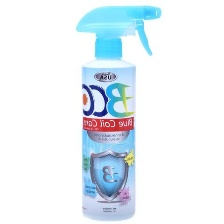cleaning_solution: (74, 1, 163, 223)
